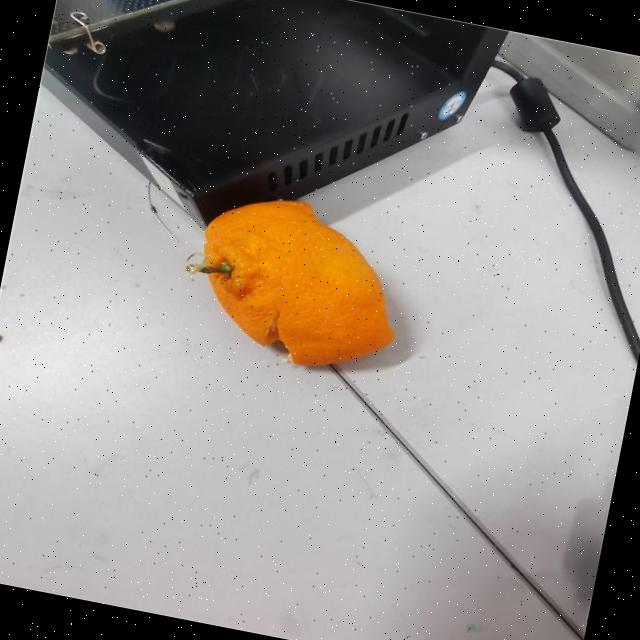orange-peel: (175, 180, 418, 382)
